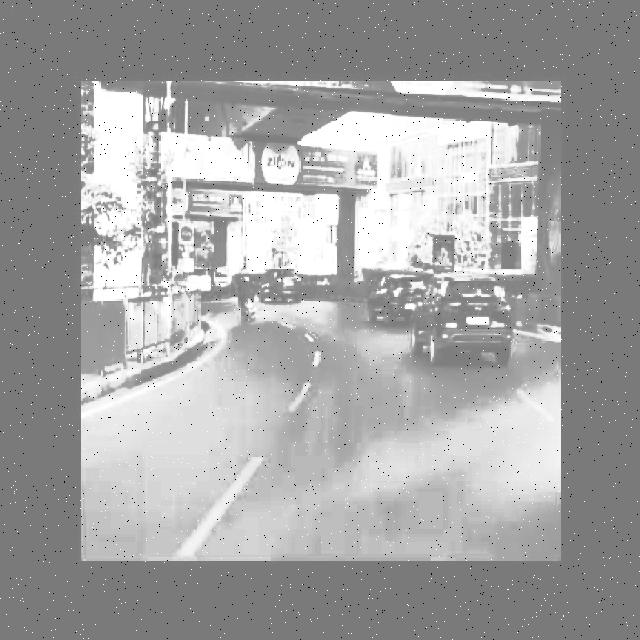Car: (426, 268, 537, 377), (366, 262, 427, 320), (257, 257, 314, 311)
